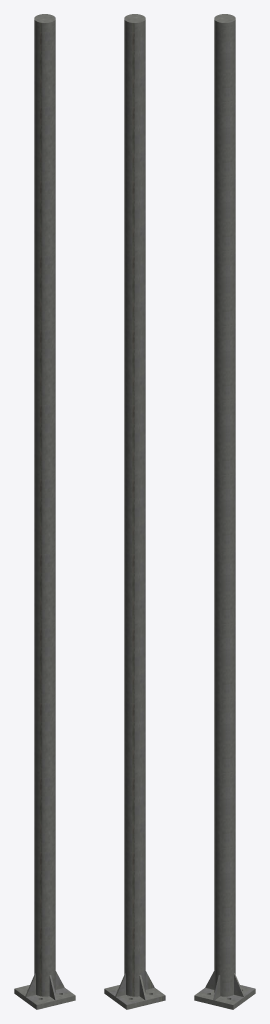
Rendered from poste 6m.fbx.
3 views of the same model, side by side, from view 1: azimuth 30°, elevation 25°; view 2: azimuth 210°, elevation 25°; view 3: azimuth 330°, elevation 25° (orthographic).
Visible parts, largest first — view 1: Poste_3m_1_1; view 2: Poste_3m_1_1; view 3: Poste_3m_1_1.
Boxes of the visible parts, bbox=[...] form: Poste_3m_1_1: bbox=[14, 14, 75, 1009]; Poste_3m_1_1: bbox=[104, 14, 165, 1009]; Poste_3m_1_1: bbox=[194, 14, 255, 1009].
Size of the model in its own units: 250 by 6000 by 250.
